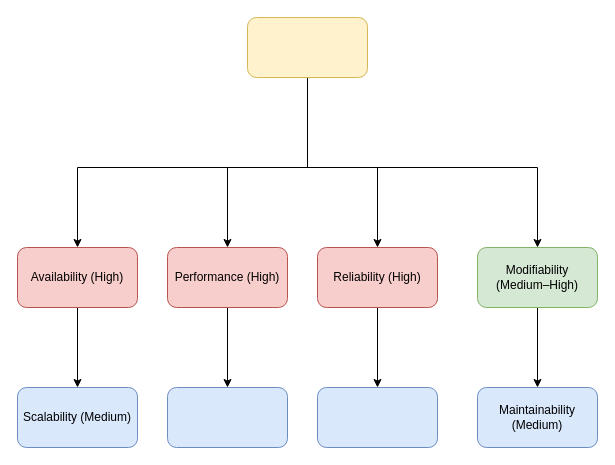
Some shapes in this 615 by 465 pixel diagram are drawn without their labels. The shapes that lost their labels are listed below. From the top down, each one's box as (x1, y1, x2, y2) in pixels, then its label:
(246, 16, 368, 78): UtilityTree
(166, 386, 288, 448): Security (Medium)
(316, 386, 438, 448): Cost efficiency (Medium)
